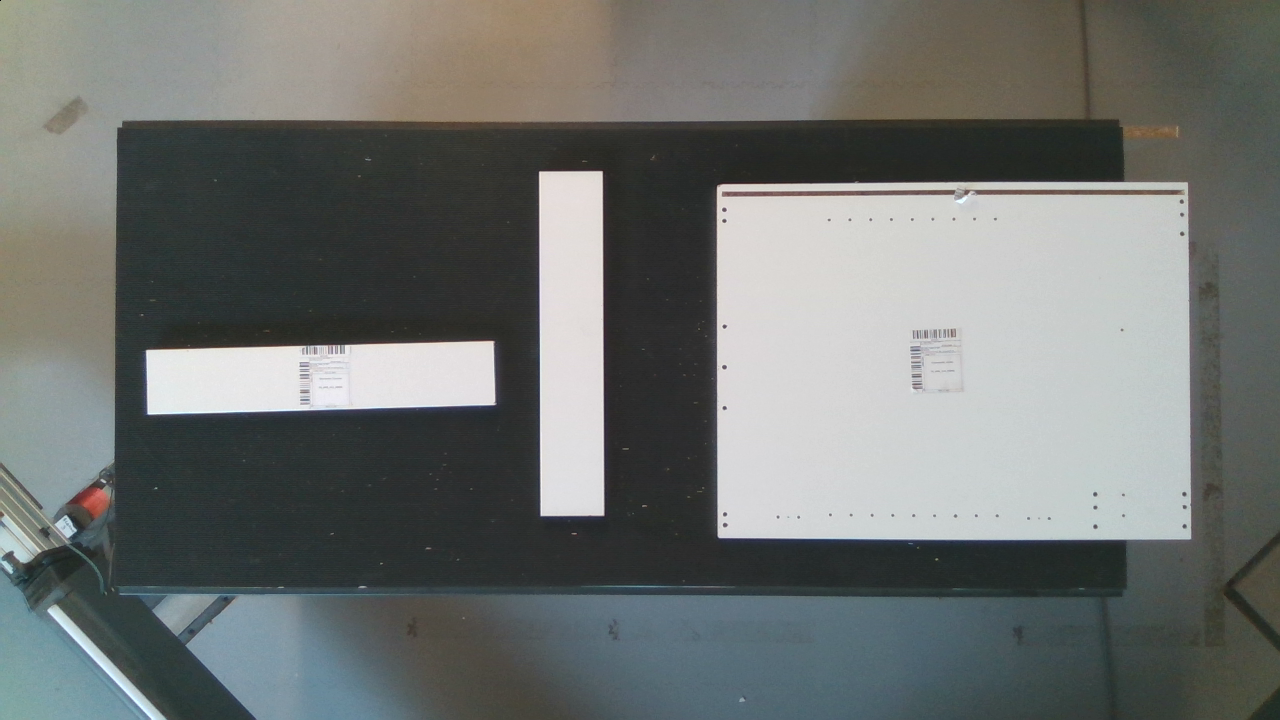barcode: (899, 317, 981, 400), (290, 339, 371, 416)
part1: (529, 161, 623, 524), (138, 337, 501, 422)
part2: (696, 168, 1204, 550)
